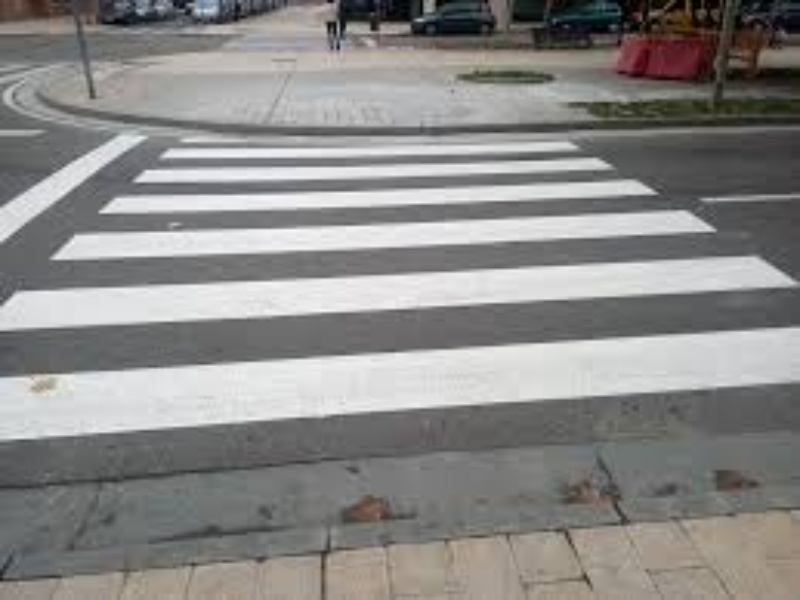zebra cross: (1, 142, 798, 442)
